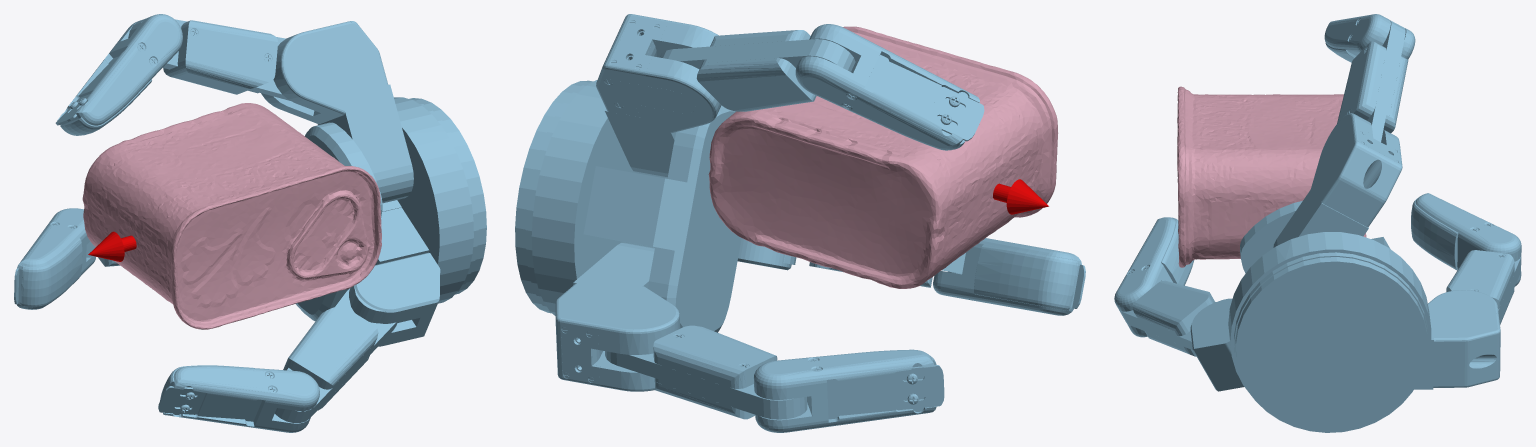
3 renders of one model, left to right at view 1: azimuth 30°, elevation 25°; view 2: azimuth 150°, elevation 25°; view 3: azimuth 270°, elevation 25°, orthographic. The views are drawn at different scales.
Parts seen in each view (by area): view 1: world, potted_meat_can.stl; view 2: world, potted_meat_can.stl; view 3: world, potted_meat_can.stl.
Part boxes in pixels (left/top/right/bottom): world: left=14, top=14, right=486, bottom=432; potted_meat_can.stl: left=82, top=103, right=381, bottom=329; world: left=515, top=14, right=1085, bottom=432; potted_meat_can.stl: left=708, top=26, right=1058, bottom=288; world: left=1114, top=14, right=1521, bottom=432; potted_meat_can.stl: left=1177, top=86, right=1366, bottom=267.
Size of the model in its own units: 0.1864 by 0.1523 by 0.1797.
